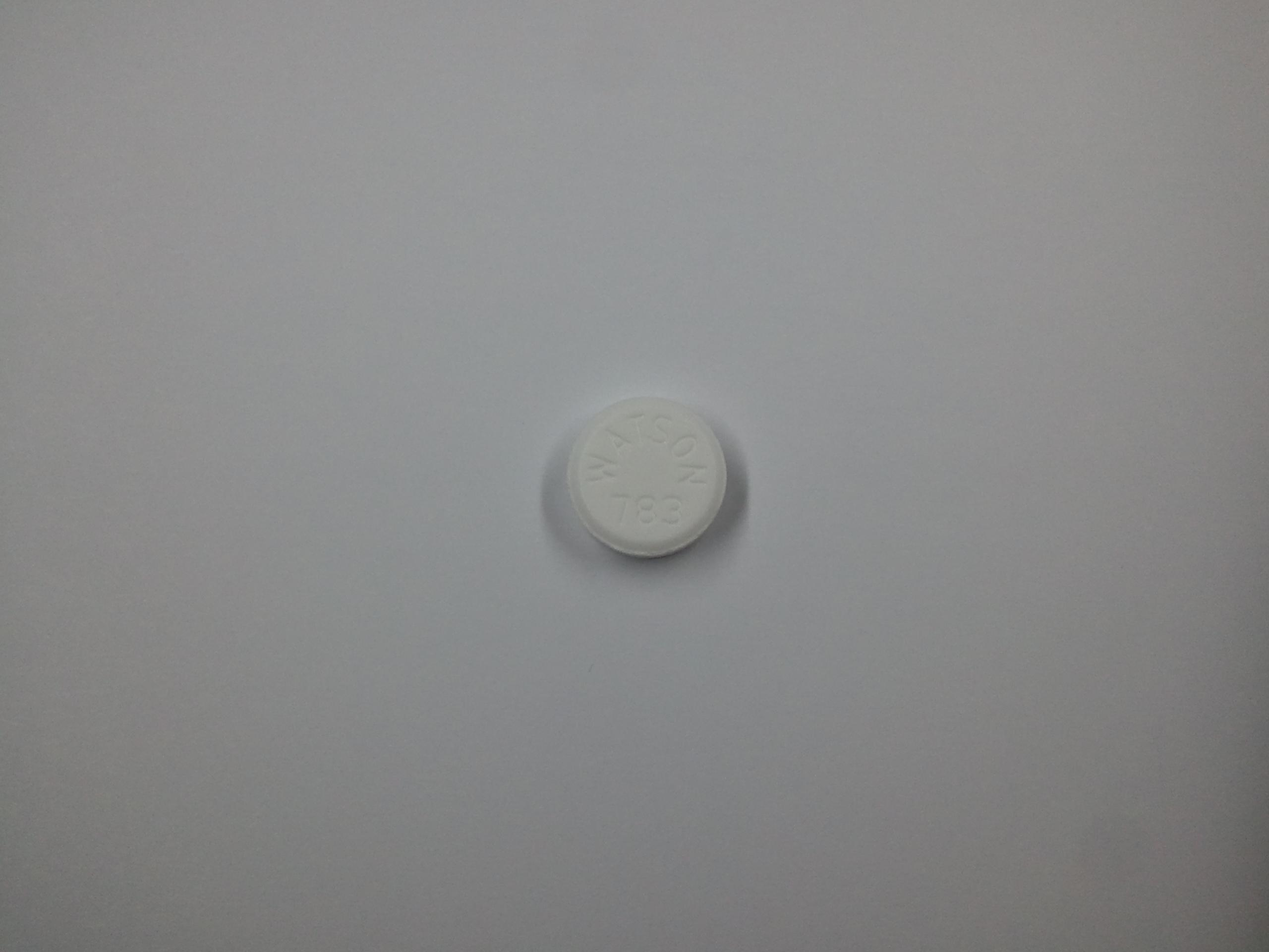Pill: (534, 385, 709, 559)
